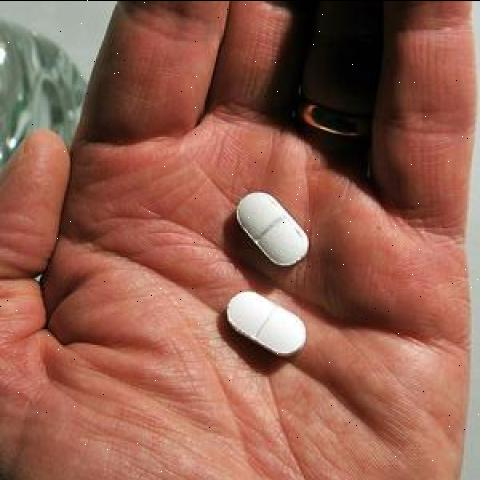Pill: (213, 168, 318, 278), (199, 286, 332, 362)
